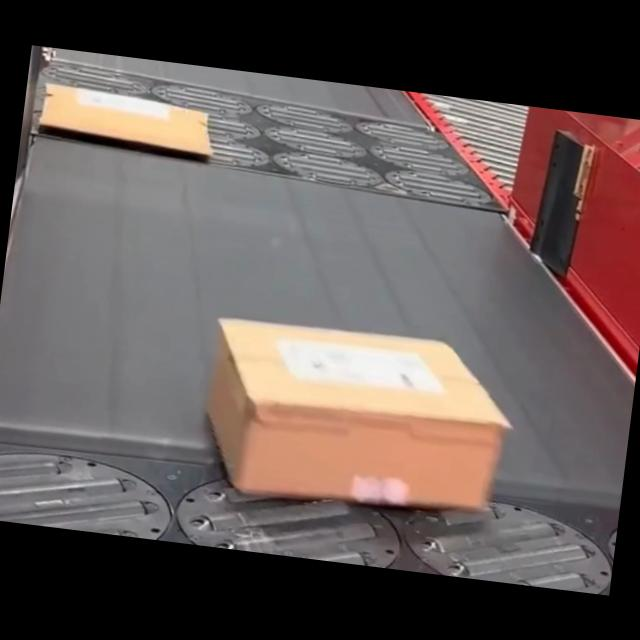box: (196, 308, 510, 521)
mailer: (31, 78, 216, 162)
